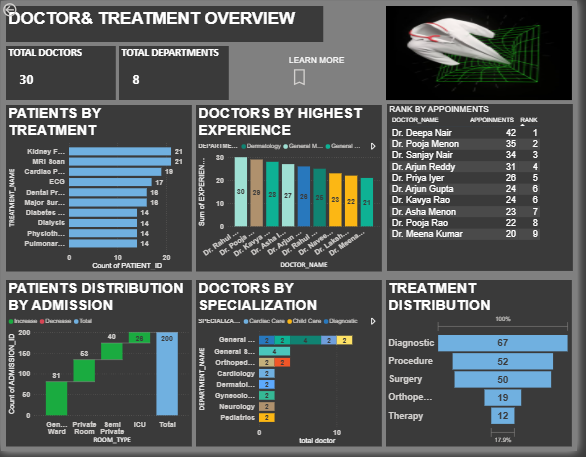

Layout of this report page (visuals, bound fields, positions):
{"tool":"powerbi","page":{"name":"Page 3","canvas":[1280,1000],"ordinal":2},"visuals":[{"type":"barChart","title":"DOCTORS BY SPECIALIZATION","fields":{"Category":["DIM_DEPARTMENT.DEPARTMENT_NAME"],"Series":["DIM_SPECIALIZATION.SPECIALIZATION_CATEGORY"],"Y":["DIM_DOCTOR.total doctor"]},"box":[433,620,413,370],"z":0},{"type":"clusteredBarChart","title":"PATIENTS BY TREATMENT","fields":{"Category":["DIM_TREATMENT.TREATMENT_NAME"],"Y":["CountNonNull(FACT_BILLING.PATIENT_ID)"]},"box":[10,230,413,370],"z":1000},{"type":"funnel","title":"TREATMENT DISTRIBUTION","fields":{"Category":["DIM_TREATMENT.TREATMENT_CATEGORY","DIM_TREATMENT.TREATMENT_NAME"],"Y":["CountNonNull(FACT_ADMISSIONS.ADMISSION_DATE_ID)"]},"box":[856,620,413.5,370],"z":2000},{"type":"waterfallChart","title":"PATIENTS DISTRIBUTION BY ADMISSION","fields":{"Category":["FACT_ADMISSIONS.ROOM_TYPE"],"Y":["CountNonNull(FACT_ADMISSIONS.ADMISSION_ID)"]},"box":[10,620,413,370],"z":3000},{"type":"textbox","box":[10.1,10,705,80],"z":4000},{"type":"columnChart","title":"DOCTORS BY HIGHEST EXPERIENCE","fields":{"Category":["DIM_DOCTOR.DOCTOR_NAME"],"Y":["Sum(DIM_DOCTOR.EXPERIENCE_YEARS)"],"Series":["DIM_DEPARTMENT.DEPARTMENT_NAME"]},"box":[433,230,413,370],"z":5000},{"type":"actionButton","box":[0,0,100,39.2],"z":6000},{"type":"cardVisual","title":"TOTAL DEPARTMENTS","fields":{"Data":["DIM_DEPARTMENT.TOTAL DEPARTMENTS"]},"box":[263,100,244,120],"z":7000},{"type":"cardVisual","title":"TOTAL DOCTORS","fields":{"Data":["DIM_DOCTOR.total doctor"]},"box":[10,100,244,120],"z":8000},{"type":"image","box":[855.3,10.6,412.8,208.5],"z":9000},{"type":"actionButton","title":"LEARN MORE","box":[640.4,119.1,161.7,72.3],"z":10000},{"type":"tableEx","title":"RANK BY APPOINMENTS","fields":{"Values":["DIM_DOCTOR.DOCTOR_NAME","CountNonNull(FACT_APPOINTMENTS.APPOINTMENT_ID)","DIM_DOCTOR.RANK DOCTOR"]},"box":[856.9,229.4,413,370.6],"z":11000}]}

Visuals, with their boxes in screenshot pixels (x1, y1, x2, y2), scaled from the page's 1280x1000 canvas onto the 586x457 screenshot:
"DOCTORS BY SPECIALIZATION" barChart: l=198, t=283, r=387, b=452
"PATIENTS BY TREATMENT" clusteredBarChart: l=5, t=105, r=194, b=274
"TREATMENT DISTRIBUTION" funnel: l=392, t=283, r=581, b=452
"PATIENTS DISTRIBUTION BY ADMISSION" waterfallChart: l=5, t=283, r=194, b=452
textbox: l=5, t=5, r=327, b=41
"DOCTORS BY HIGHEST EXPERIENCE" columnChart: l=198, t=105, r=387, b=274
actionButton: l=0, t=0, r=46, b=18
"TOTAL DEPARTMENTS" cardVisual: l=120, t=46, r=232, b=101
"TOTAL DOCTORS" cardVisual: l=5, t=46, r=116, b=101
image: l=392, t=5, r=581, b=100
"LEARN MORE" actionButton: l=293, t=54, r=367, b=87
"RANK BY APPOINMENTS" tableEx: l=392, t=105, r=581, b=274
